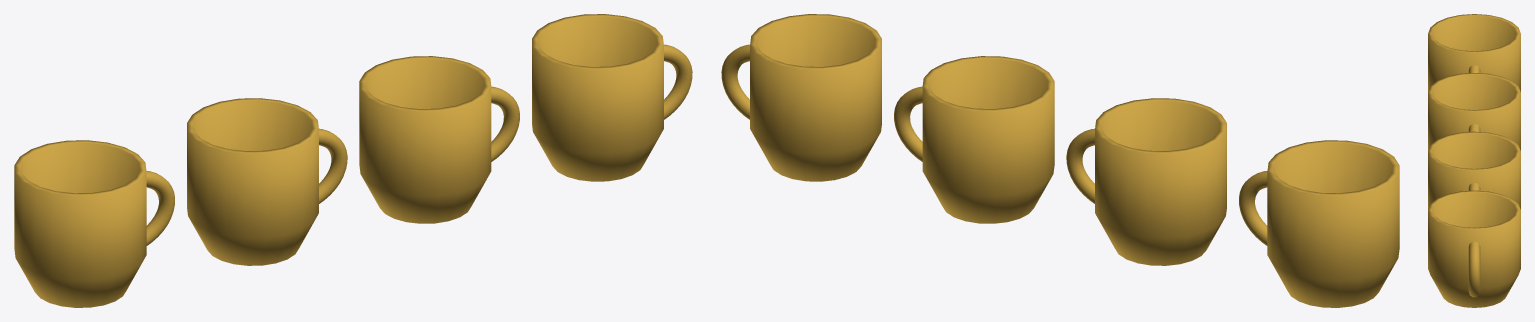
Rendered from i_cups_5.glb.
3 renders of one model, left to right at view 1: azimuth 30°, elevation 25°; view 2: azimuth 150°, elevation 25°; view 3: azimuth 270°, elevation 25°, orthographic. The views are drawn at different scales.
Visible parts, largest first — view 1: o, o.004, o.002, o.006, o.001, o.005, o.003, o.007; view 2: o, o.004, o.002, o.006, o.001, o.005, o.003, o.007; view 3: o.006, o, o.002, o.004, o.007, o.003, o.005, o.001.
Boxes of the visible parts, x1=… form: o: x1=14, y1=140, x2=146, y2=307; o.004: x1=359, y1=56, x2=491, y2=223; o.002: x1=187, y1=98, x2=318, y2=265; o.006: x1=532, y1=14, x2=663, y2=181; o.001: x1=146, y1=170, x2=174, y2=245; o.005: x1=491, y1=86, x2=519, y2=161; o.003: x1=319, y1=128, x2=347, y2=203; o.007: x1=664, y1=44, x2=692, y2=119; o: x1=1267, y1=140, x2=1399, y2=307; o.004: x1=922, y1=56, x2=1054, y2=223; o.002: x1=1095, y1=98, x2=1226, y2=265; o.006: x1=750, y1=14, x2=881, y2=181; o.001: x1=1239, y1=170, x2=1267, y2=245; o.005: x1=894, y1=86, x2=922, y2=161; o.003: x1=1066, y1=128, x2=1094, y2=203; o.007: x1=721, y1=44, x2=749, y2=119; o.006: x1=1428, y1=190, x2=1520, y2=307; o: x1=1428, y1=14, x2=1520, y2=91; o.002: x1=1428, y1=73, x2=1520, y2=150; o.004: x1=1428, y1=131, x2=1520, y2=209; o.007: x1=1468, y1=241, x2=1480, y2=297; o.003: x1=1468, y1=124, x2=1480, y2=131; o.005: x1=1468, y1=183, x2=1480, y2=190; o.001: x1=1468, y1=65, x2=1480, y2=73.
Bounding box in the file's own units: 0.465 × 0.08 × 0.08.
